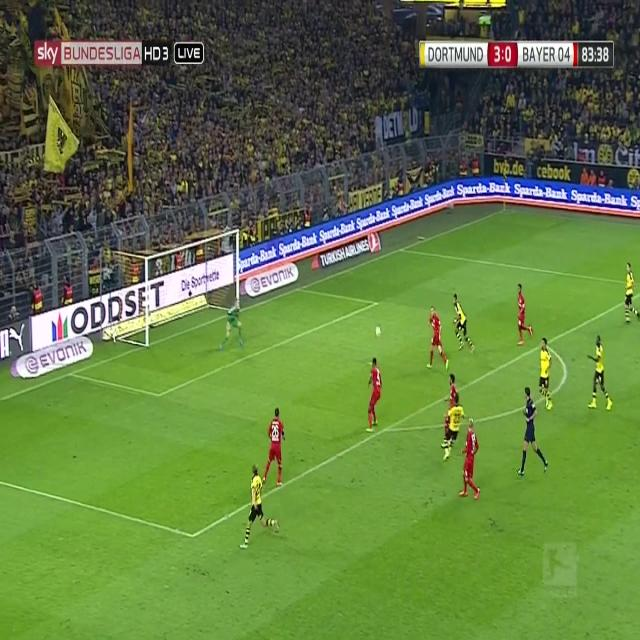Ball: (372, 321, 383, 341)
Goalkeeper: (219, 300, 245, 354)
Player: (237, 460, 280, 553), (586, 336, 616, 415), (458, 413, 482, 506), (262, 402, 287, 487), (449, 289, 478, 355), (363, 356, 385, 436), (427, 304, 451, 372), (444, 390, 464, 464), (514, 280, 535, 347), (537, 337, 555, 413), (622, 261, 640, 328), (447, 370, 456, 406)
Referee: (515, 383, 549, 480)
